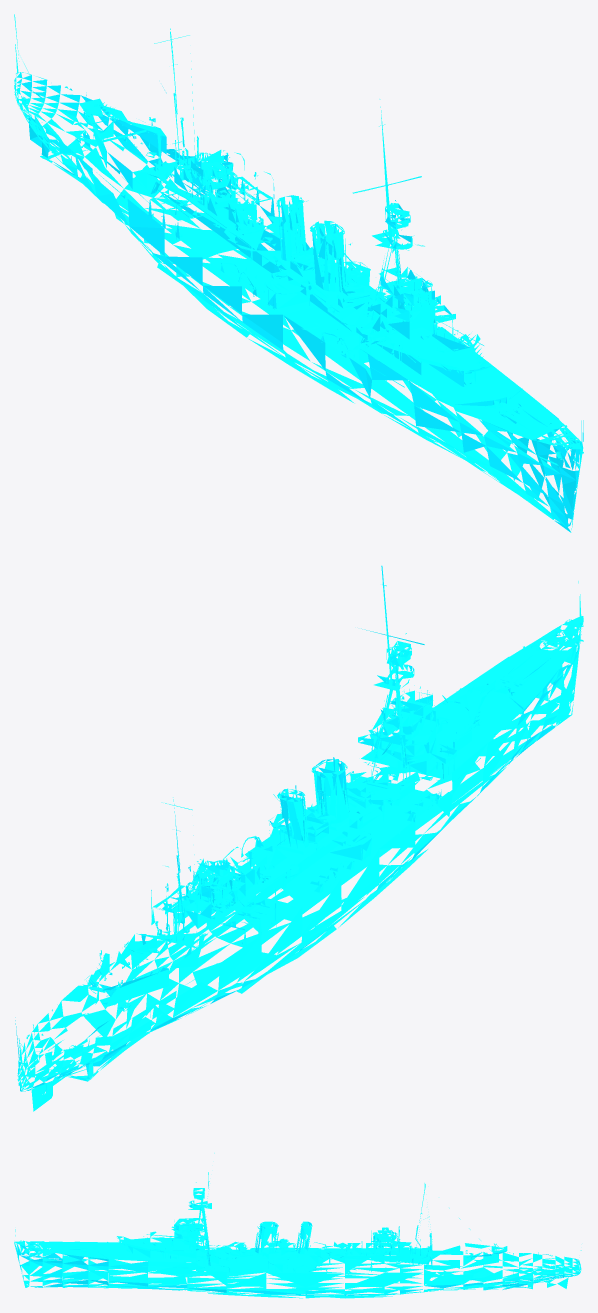
Rendered from Danae.glb.
3 views of the same model, one above another, from view 1: azimuth 30°, elevation 25°; view 2: azimuth 150°, elevation 25°; view 3: azimuth 270°, elevation 25° (orthographic). The views are drawn at different scales.
Size of the model in its own units: 0.9841 by 2.79 by 9.64.
